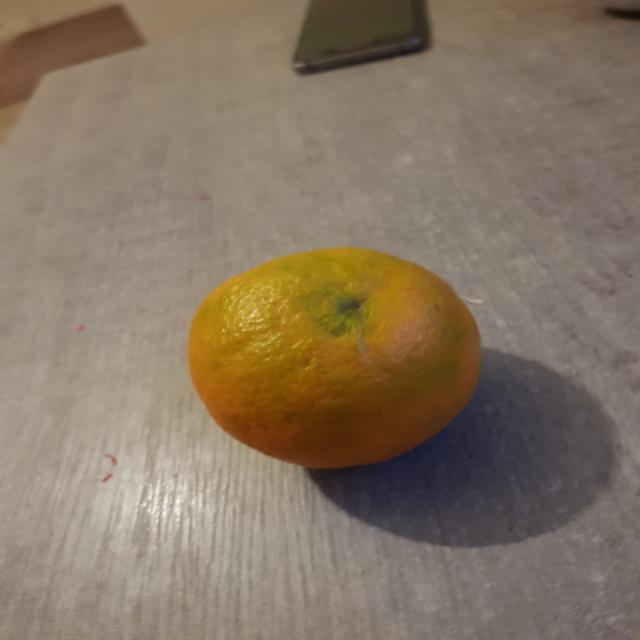Orange: (187, 247, 482, 470)
